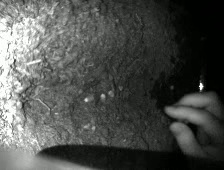corn: (82, 93, 96, 104), (106, 89, 117, 99), (100, 92, 107, 103), (117, 84, 125, 92), (169, 84, 175, 90)
